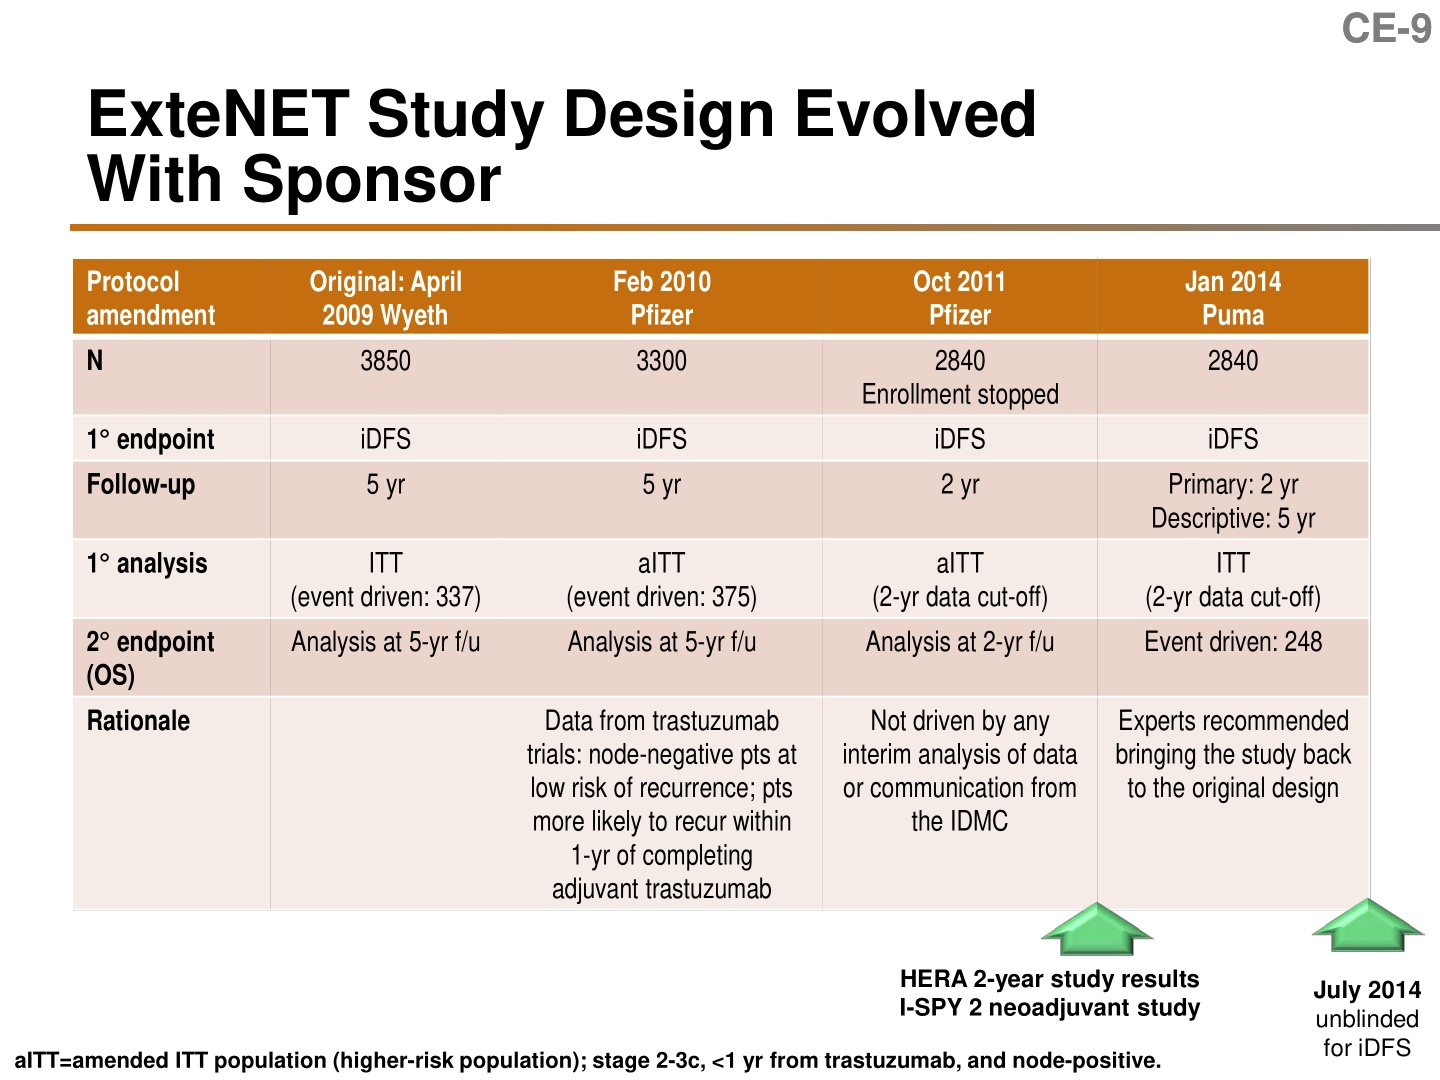full_lined: (71, 258, 1372, 914)
